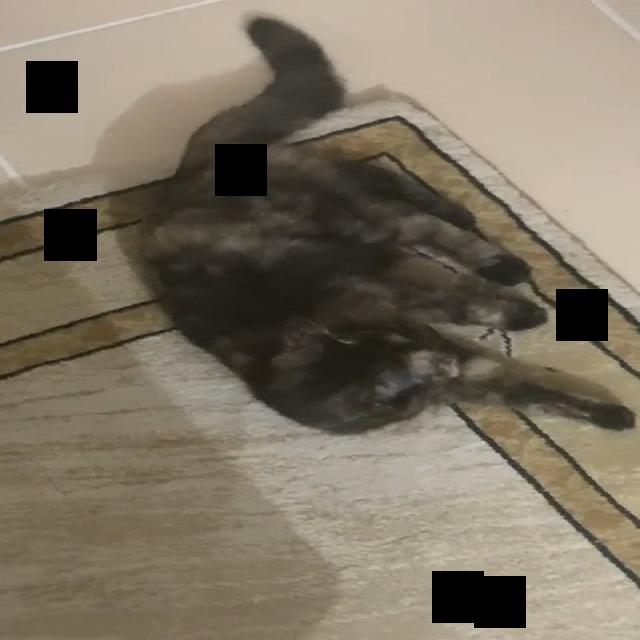authorized: (136, 14, 635, 436)
